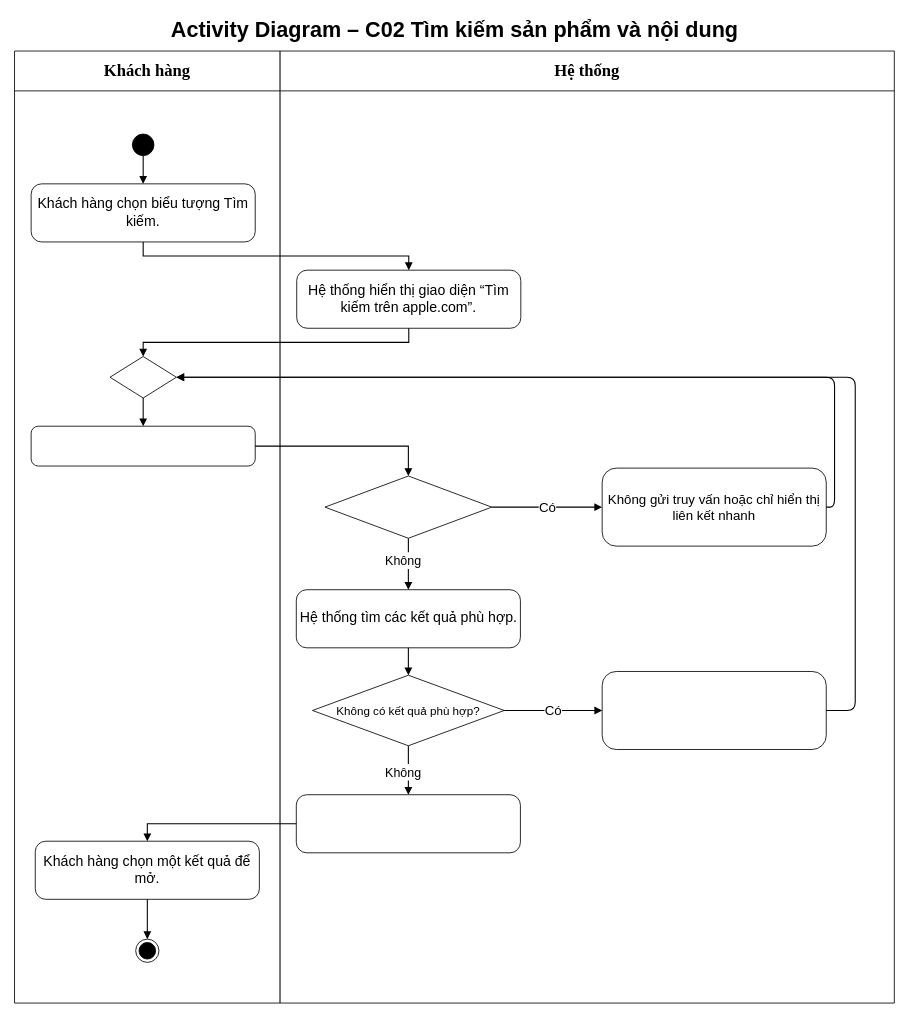
Some shapes in this 909 by 1018 pixel diagram are drawn without their labels. Here are the shapes that lost their labels. From the top down, the box of each, then its label:
(30, 425, 255, 466): Khách hàng nhập từ khóa.
(324, 475, 492, 538): Từ khóa rỗng?
(601, 671, 826, 749): Hiển thị trạng thái không tìm thấy hoặc gợi ý khác
(295, 794, 520, 853): Hệ thống hiển thị kết quả và các liên kết liên quan.
